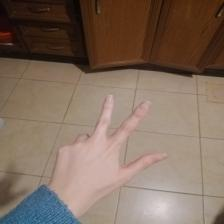three: (56, 93, 174, 192)
